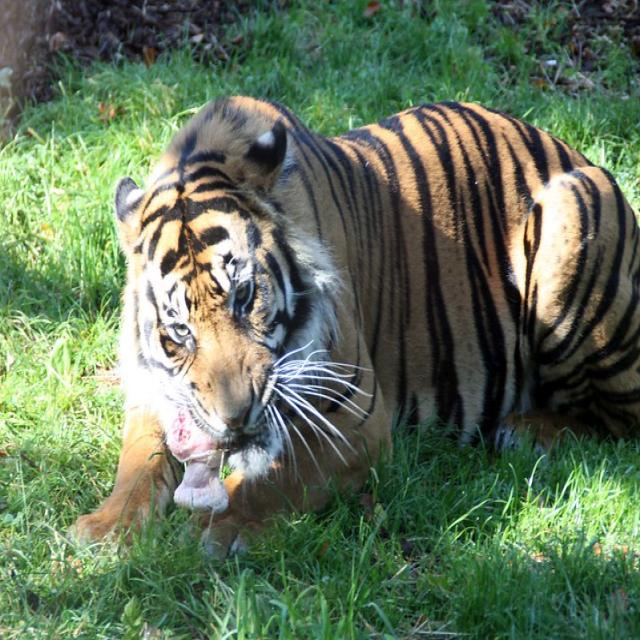Tiger: (113, 93, 639, 548)
